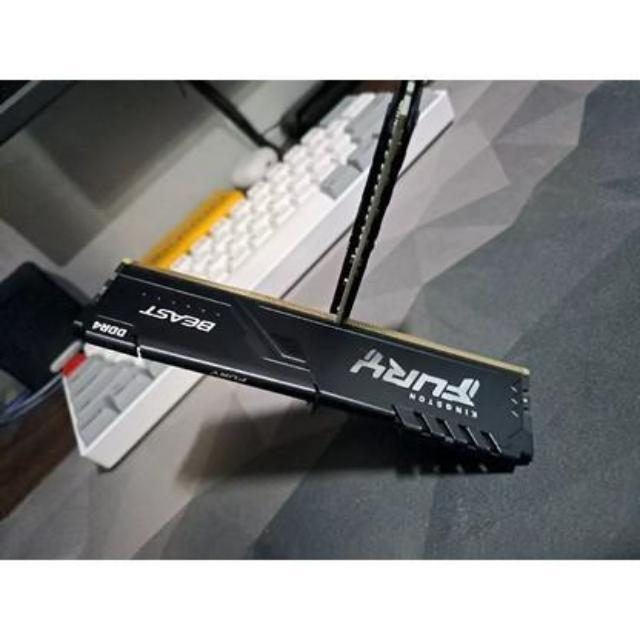RAM: (72, 258, 550, 494)
